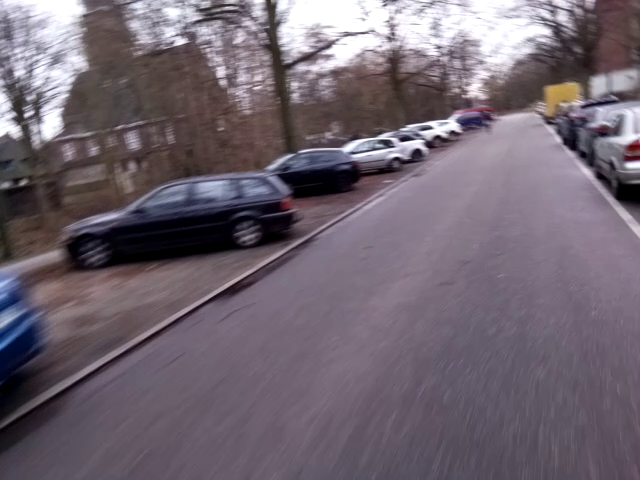car: (57, 166, 298, 284)
